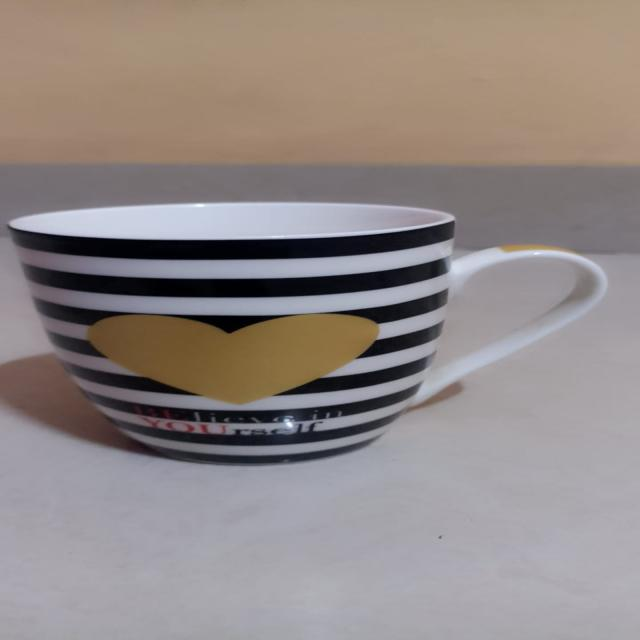cup: (0, 191, 613, 473)
